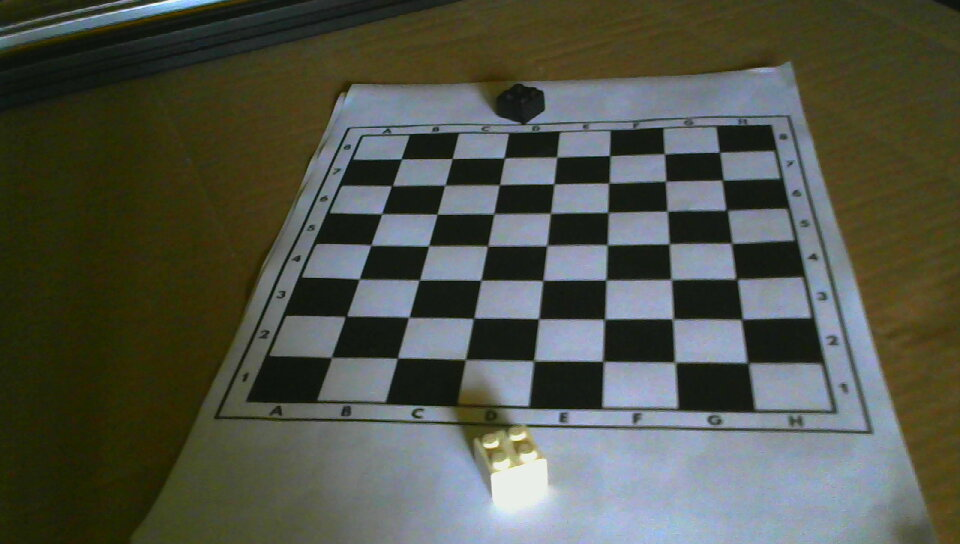bp: (494, 83, 545, 124)
wp: (473, 425, 548, 502)
